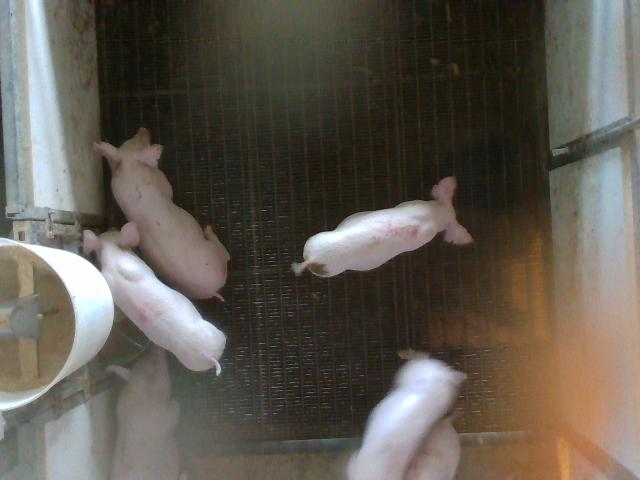pig-4: (84, 222, 225, 374)
pig-5: (291, 177, 472, 277)
